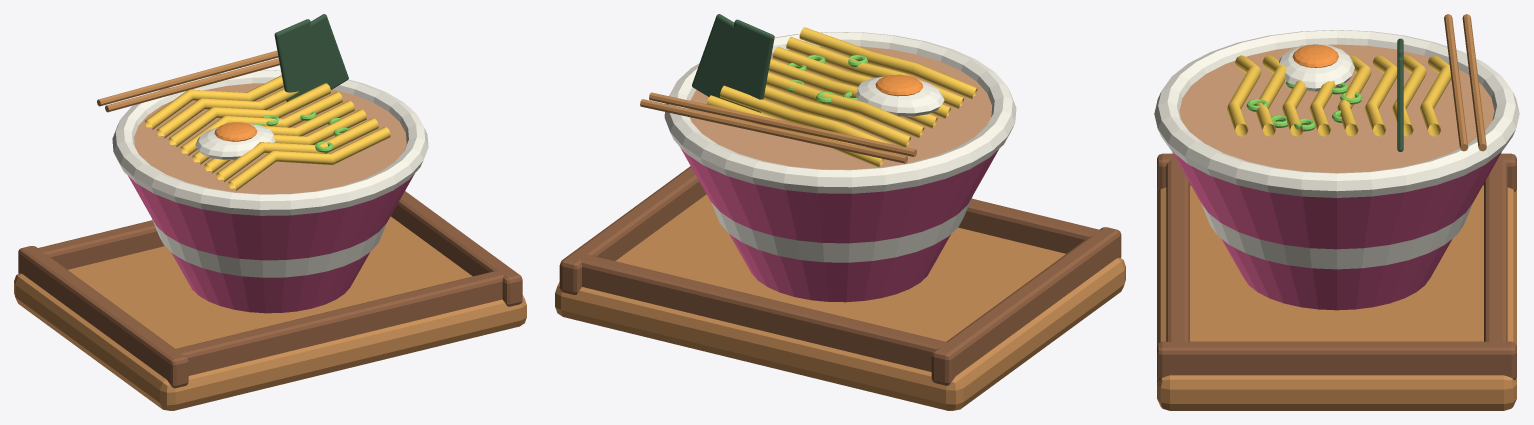
File: SmallRamenTray.glb
The picture shows the model from 3 angles, left to right: view 1: azimuth 30°, elevation 25°; view 2: azimuth 150°, elevation 25°; view 3: azimuth 270°, elevation 25°; orthographic projection. The views are drawn at different scales.
Visible parts, largest first — view 1: wood serving tray, red ramen bowl, bowl lip, tray edge.002, broth surface, tray edge, tray edge.001, cream middle stripe, tray edge.003, nori sheet 1, noodles 1, noodles 6 (+11 smaller); view 2: wood serving tray, red ramen bowl, bowl lip, tray edge.003, broth surface, tray edge, tray edge.001, cream middle stripe, tray edge.002, nori sheet 2, nori sheet 1, noodles 1 (+11 smaller); view 3: wood serving tray, red ramen bowl, broth surface, bowl lip, tray edge.001, cream middle stripe, tray edge.003, tray edge.002, egg white, noodles 1, noodles 6, chopstick 2 (+10 smaller).
Part boxes in pixels (<box>): wood serving tray: <box>14,216,526,410</box>; red ramen bowl: <box>128,174,414,313</box>; bowl lip: <box>112,70,428,215</box>; tray edge.002: <box>166,268,507,375</box>; broth surface: <box>134,83,406,194</box>; tray edge: <box>18,246,188,388</box>; tray edge.001: <box>391,191,522,306</box>; cream middle stripe: <box>152,219,386,277</box>; tray edge.003: <box>28,220,164,269</box>; nori sheet 1: <box>274,19,320,101</box>; noodles 1: <box>228,127,390,190</box>; noodles 6: <box>168,83,330,146</box>; wood serving tray: <box>555,194,1125,410</box>; red ramen bowl: <box>680,147,998,302</box>; bowl lip: <box>664,32,1016,193</box>; tray edge.003: <box>574,254,948,371</box>; broth surface: <box>689,46,992,169</box>; tray edge: <box>931,227,1121,385</box>; tray edge.001: <box>559,166,706,294</box>; cream middle stripe: <box>711,196,972,262</box>; tray edge.002: <box>958,198,1100,253</box>; nori sheet 2: <box>692,14,750,101</box>; nori sheet 1: <box>724,19,774,112</box>; noodles 1: <box>799,27,977,99</box>; wood serving tray: <box>1157,185,1516,410</box>; red ramen bowl: <box>1172,152,1501,310</box>; broth surface: <box>1179,44,1494,172</box>; bowl lip: <box>1154,30,1519,197</box>; tray edge.001: <box>1157,341,1516,380</box>; cream middle stripe: <box>1201,203,1472,269</box>; tray edge.003: <box>1484,157,1507,346</box>; tray edge.002: <box>1166,159,1189,346</box>; egg white: <box>1279,44,1354,91</box>; noodles 1: <box>1227,55,1261,136</box>; noodles 6: <box>1364,55,1397,136</box>; chopstick 2: <box>1462,14,1486,151</box>.
Size of the model in its own units: 0.92 by 0.6281 by 0.69.
